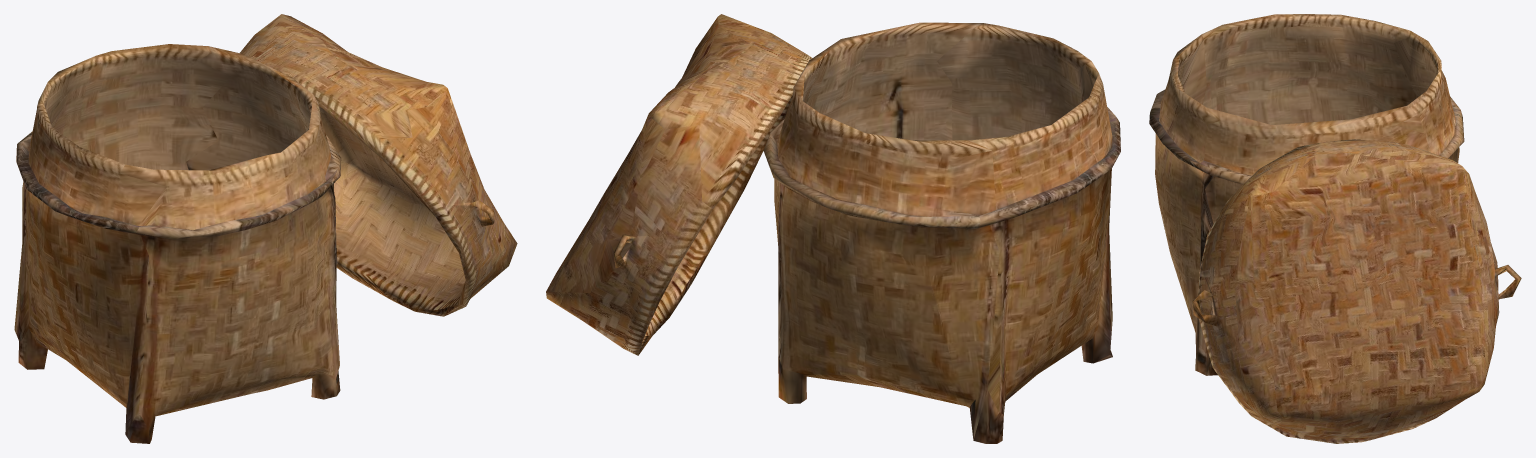
The model's file is wicker_basket_02.glb.
The picture shows the model from 3 angles, left to right: view 1: azimuth 30°, elevation 25°; view 2: azimuth 150°, elevation 25°; view 3: azimuth 270°, elevation 25°; orthographic projection. The views are drawn at different scales.
Visible parts, largest first — view 1: lod0; view 2: lod0; view 3: lod0.
Boxes of the visible parts, bbox=[...] form: lod0: bbox=[14, 14, 517, 443]; lod0: bbox=[546, 14, 1120, 443]; lod0: bbox=[1149, 14, 1521, 443].
Size of what is drawn, in the model's own units: 0.3466 by 0.2 by 0.2556.
1 material, 1 textured.
